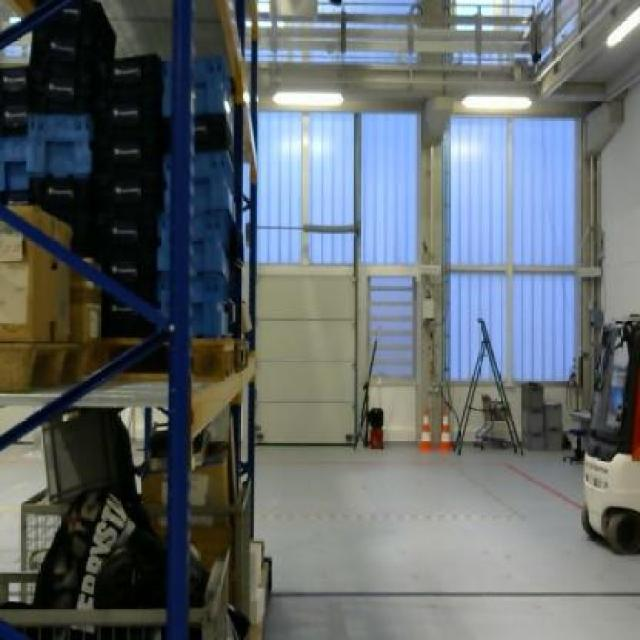box: (1, 206, 70, 342), (72, 255, 100, 340)
